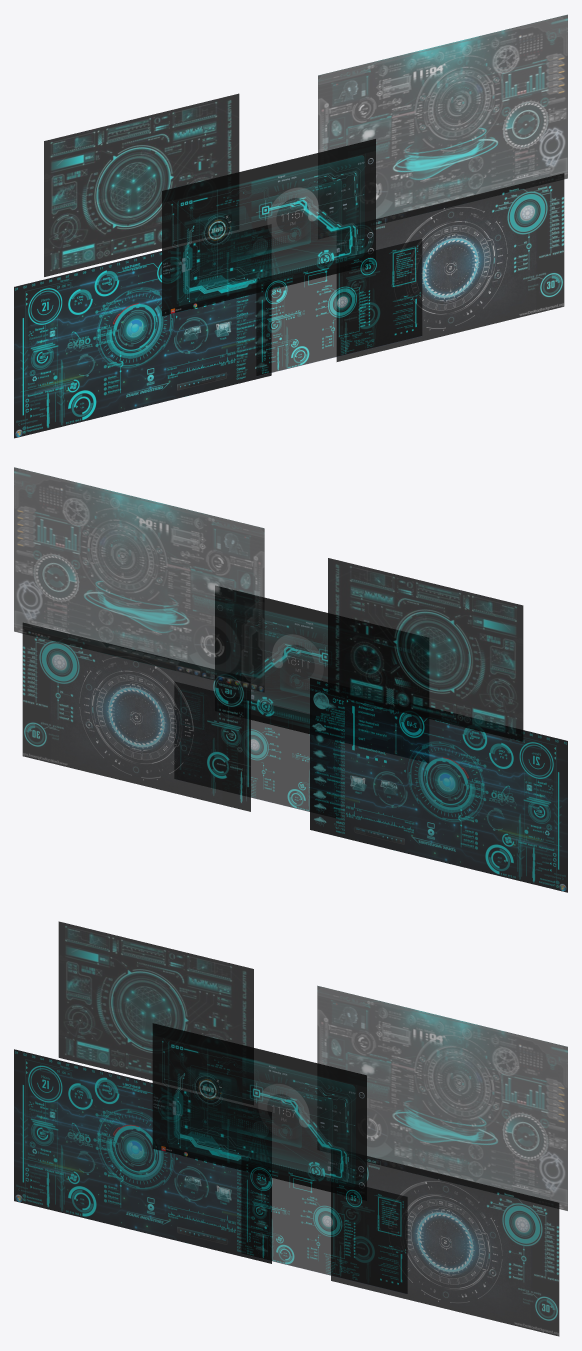
The model's file is computer.glb.
The picture shows the model from 3 angles, top to bottom: view 1: azimuth 30°, elevation 25°; view 2: azimuth 150°, elevation 25°; view 3: azimuth 330°, elevation 25°; orthographic projection.
Visible parts, largest first — view 1: Object_9, Object_13, Object_11, Object_15, Object_7, Object_5; view 2: Object_9, Object_13, Object_11, Object_7, Object_15, Object_5; view 3: Object_9, Object_13, Object_11, Object_15, Object_7, Object_5.
Boxes of the visible parts, box(x1,y1,x2,y2) form: Object_9: box(318, 14, 567, 218); Object_13: box(14, 251, 271, 438); Object_11: box(336, 173, 564, 361); Object_15: box(162, 139, 375, 316); Object_7: box(44, 93, 239, 276); Object_5: box(256, 239, 422, 376); Object_9: box(14, 467, 264, 692); Object_13: box(310, 678, 567, 892); Object_11: box(22, 623, 250, 811); Object_7: box(328, 558, 523, 741); Object_15: box(215, 586, 428, 733); Object_5: box(251, 720, 309, 811); Object_9: box(317, 986, 567, 1210); Object_13: box(14, 1049, 271, 1263); Object_11: box(331, 1156, 559, 1336); Object_15: box(152, 1023, 366, 1200); Object_7: box(58, 921, 253, 1080); Object_5: box(241, 1156, 407, 1293).
Bounding box in the file's own units: 1.28 × 0.6403 × 0.0599.
6 materials, 6 textured.
